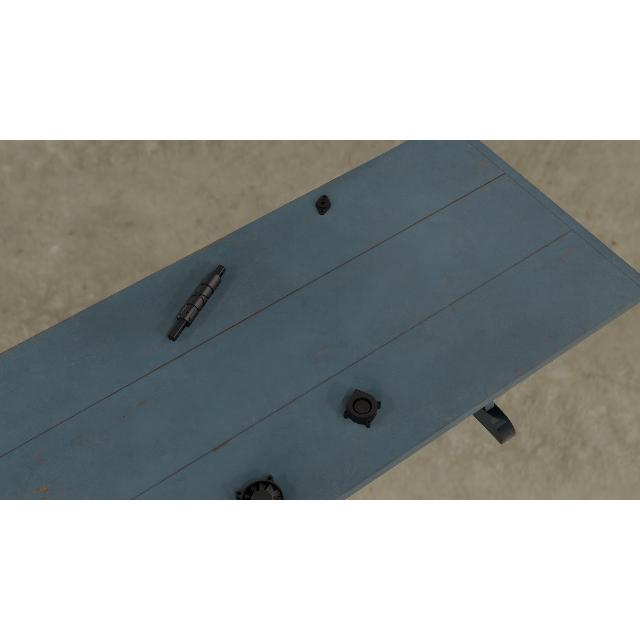Pieza1: (164, 260, 230, 346)
Pieza2: (314, 193, 332, 215)
Pieza3: (343, 388, 383, 430)
Pieza4: (233, 474, 291, 500)
